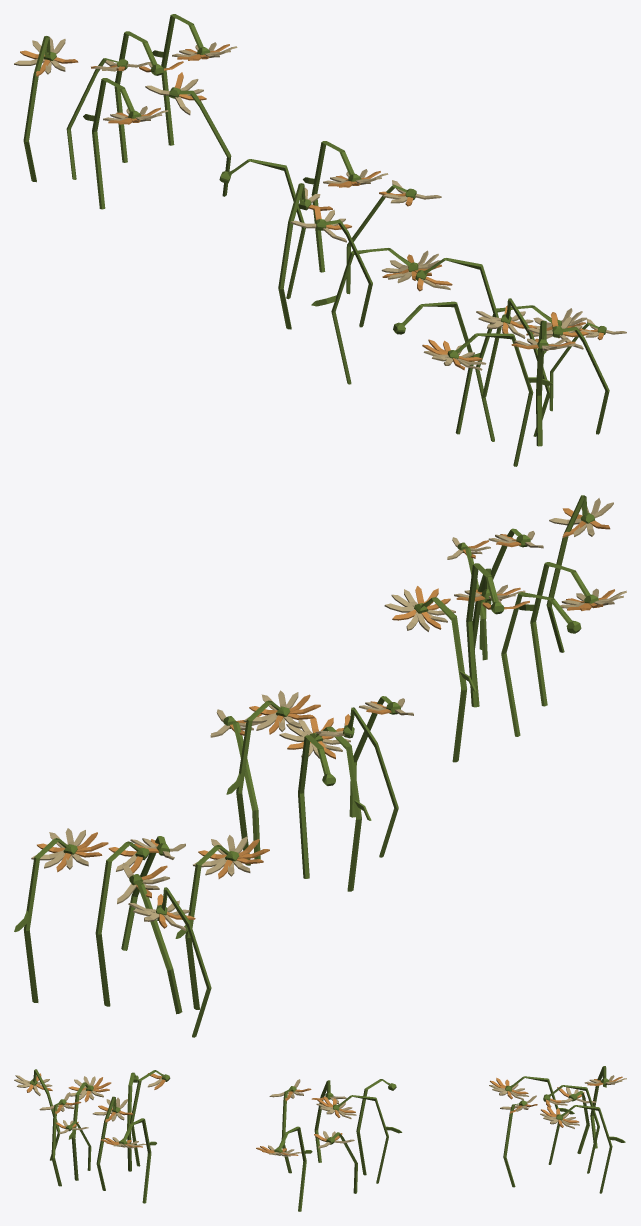
Rendered from margaritas_marchitas2.fbx.
3 renders of one model, top to bottom at view 1: azimuth 30°, elevation 25°; view 2: azimuth 150°, elevation 25°; view 3: azimuth 270°, elevation 25°, orthographic. The views are drawn at different scales.
Visible parts, largest first — view 1: Cylinder.046, Cylinder.035, Cylinder.008, Cylinder.001, Cylinder.014, Cylinder.040, Cylinder.042, Cylinder.009, Cylinder.036, Cylinder.039, Cylinder.044, Cylinder.047 (+8 smaller); view 2: Cylinder.041, Cylinder.014, Cylinder.001, Cylinder.040, Cylinder.035, Cylinder.046, Cylinder.042, Cylinder.008, Cylinder.011, Cylinder.013, Cylinder.044, Cylinder.038 (+8 smaller); view 3: Cylinder.046, Cylinder.040, Cylinder.014, Cylinder.001, Cylinder.041, Cylinder.035, Cylinder.047, Cylinder.042, Cylinder.045, Cylinder.044, Cylinder.008, Cylinder.011 (+8 smaller).
Part boxes in pixels (x1=…): Cylinder.046: x1=422, y1=333, x2=552, y2=466; Cylinder.035: x1=311, y1=248, x2=441, y2=384; Cylinder.008: x1=14, y1=36, x2=78, y2=182; Cylinder.001: x1=83, y1=78, x2=168, y2=209; Cylinder.014: x1=152, y1=14, x2=237, y2=145; Cylinder.040: x1=303, y1=141, x2=388, y2=272; Cylinder.042: x1=511, y1=320, x2=575, y2=446; Cylinder.009: x1=145, y1=72, x2=231, y2=196; Cylinder.036: x1=278, y1=183, x2=332, y2=329; Cylinder.039: x1=290, y1=205, x2=372, y2=327; Cylinder.044: x1=415, y1=258, x2=501, y2=397; Cylinder.047: x1=476, y1=298, x2=549, y2=436; Cylinder.041: x1=384, y1=586, x2=476, y2=762; Cylinder.014: x1=14, y1=828, x2=108, y2=1002; Cylinder.001: x1=175, y1=835, x2=269, y2=1009; Cylinder.040: x1=226, y1=690, x2=320, y2=865; Cylinder.035: x1=279, y1=715, x2=371, y2=891; Cylinder.046: x1=519, y1=562, x2=626, y2=706; Cylinder.042: x1=546, y1=495, x2=613, y2=652; Cylinder.008: x1=128, y1=887, x2=211, y2=1037; Cylinder.011: x1=95, y1=841, x2=149, y2=1006; Cylinder.013: x1=117, y1=863, x2=182, y2=1014; Cylinder.044: x1=466, y1=563, x2=529, y2=707; Cylinder.038: x1=298, y1=735, x2=335, y2=878; Cylinder.046: x1=68, y1=1076, x2=111, y2=1180; Cylinder.040: x1=316, y1=1095, x2=402, y2=1183; Cylinder.014: x1=540, y1=1105, x2=625, y2=1193; Cylinder.001: x1=489, y1=1076, x2=574, y2=1164; Cylinder.041: x1=100, y1=1118, x2=156, y2=1203; Cylinder.035: x1=256, y1=1126, x2=312, y2=1211; Cylinder.047: x1=92, y1=1096, x2=133, y2=1190; Cylinder.042: x1=14, y1=1069, x2=60, y2=1160; Cylinder.045: x1=39, y1=1092, x2=81, y2=1186; Cylinder.044: x1=130, y1=1070, x2=170, y2=1166; Cylinder.008: x1=584, y1=1066, x2=626, y2=1148; Cylinder.011: x1=543, y1=1085, x2=599, y2=1173.
Bounding box in the file's own units: 96.74 × 95.99 × 386.
